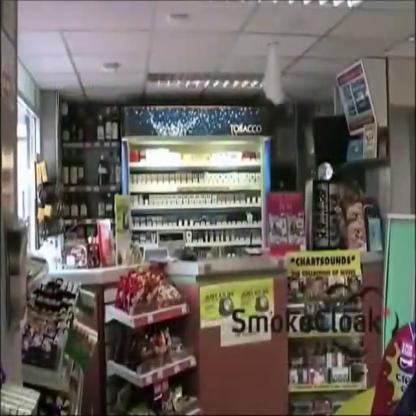smoke: (258, 35, 290, 110)
